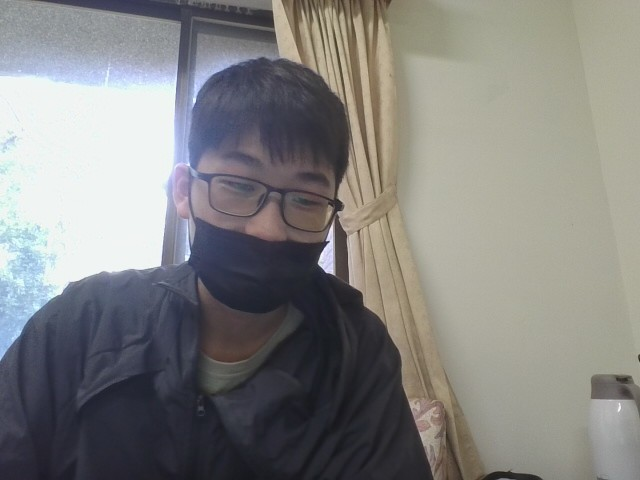No_Helmet: (174, 52, 357, 249)
person: (0, 39, 495, 480)
